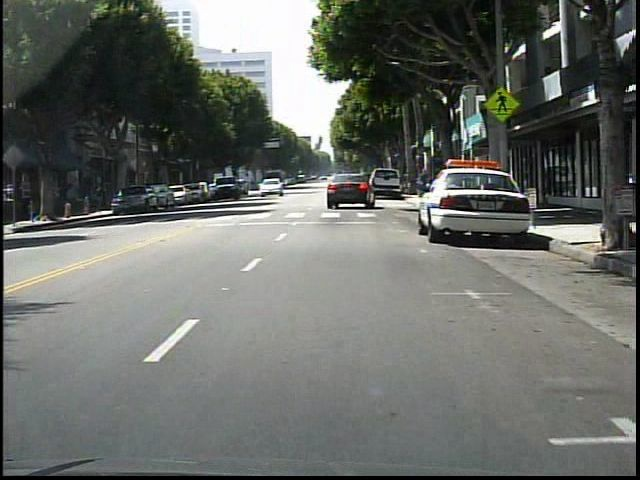person: (416, 165, 437, 205)
